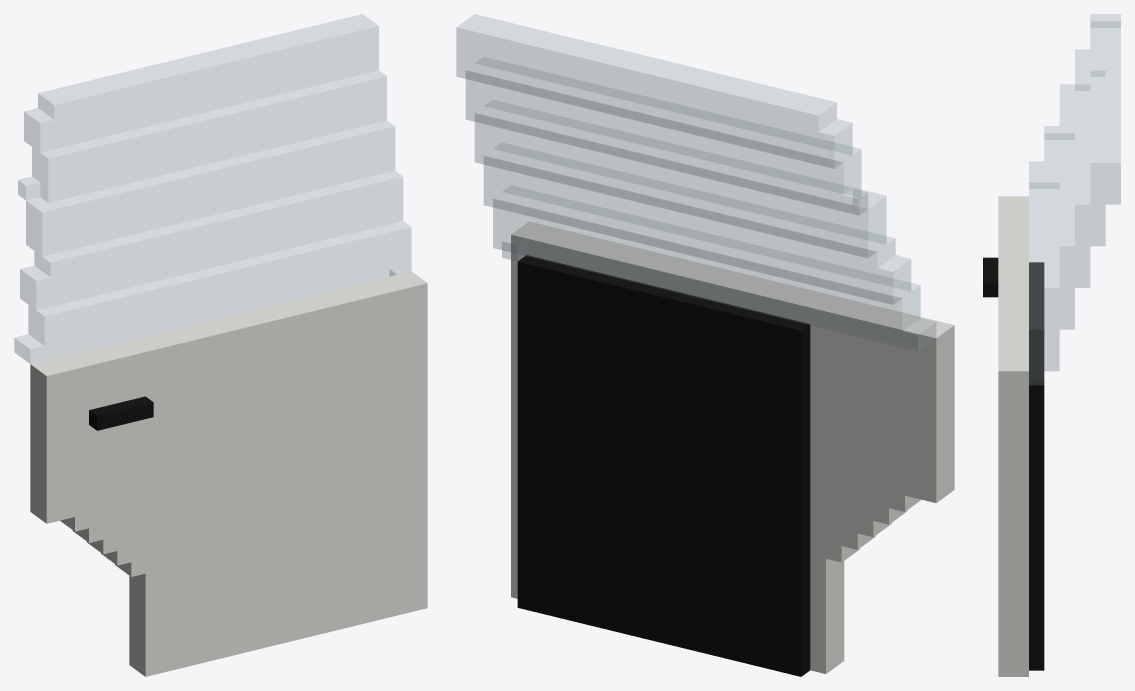
File: electric_crossover_rear_door.glb
The picture shows the model from 3 angles, left to right: view 1: azimuth 30°, elevation 25°; view 2: azimuth 150°, elevation 25°; view 3: azimuth 270°, elevation 25°; orthographic projection. The views are drawn at different scales.
Parts seen in each view (by area): view 1: body:compound; view 2: body:compound; view 3: body:compound.
Part boxes in pixels (bbox=[...]): body:compound: bbox=[14, 14, 427, 676]; body:compound: bbox=[456, 14, 954, 676]; body:compound: bbox=[983, 14, 1120, 676].
Bounding box in the file's own units: 0.8438 × 1.16 × 0.2812.
